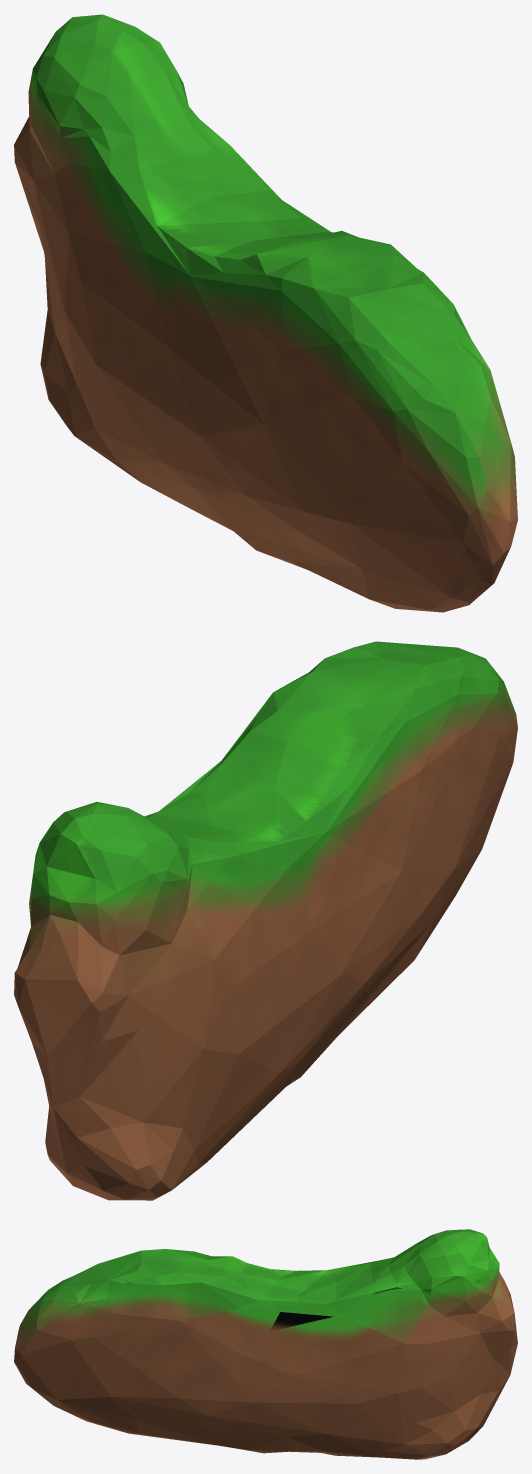
File: Level_1_Ground.fbx
3 renders of one model, top to bottom at view 1: azimuth 30°, elevation 25°; view 2: azimuth 150°, elevation 25°; view 3: azimuth 270°, elevation 25°, orthographic. The views are drawn at different scales.
Parts seen in each view (by area): view 1: Icosphere; view 2: Icosphere; view 3: Icosphere.
Part boxes in pixels (bbox=[...]): Icosphere: bbox=[14, 14, 517, 612]; Icosphere: bbox=[14, 641, 517, 1200]; Icosphere: bbox=[14, 1229, 517, 1459].
Size of the model in its own units: 494 by 1289 by 2633.
